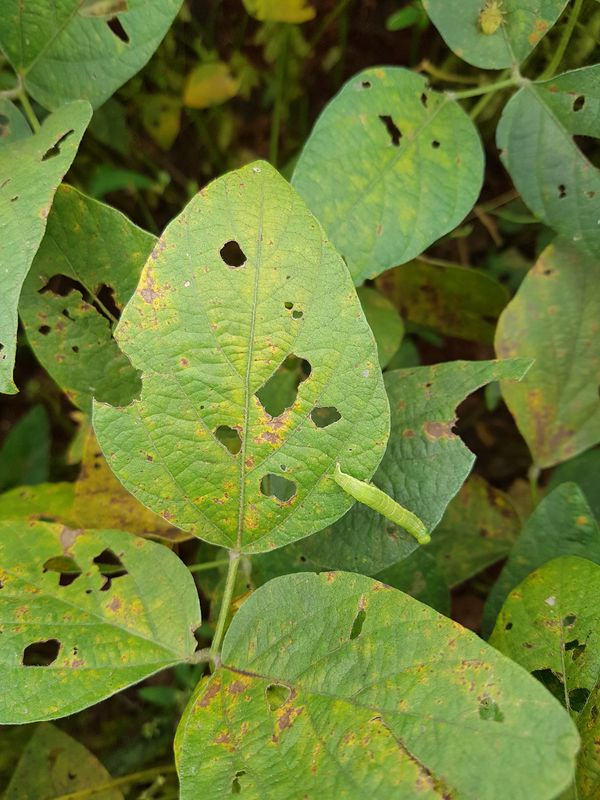Anticarsia_gemmatalis: (313, 448, 446, 566)
Euschistus_heros_ninfa: (463, 1, 518, 45)
